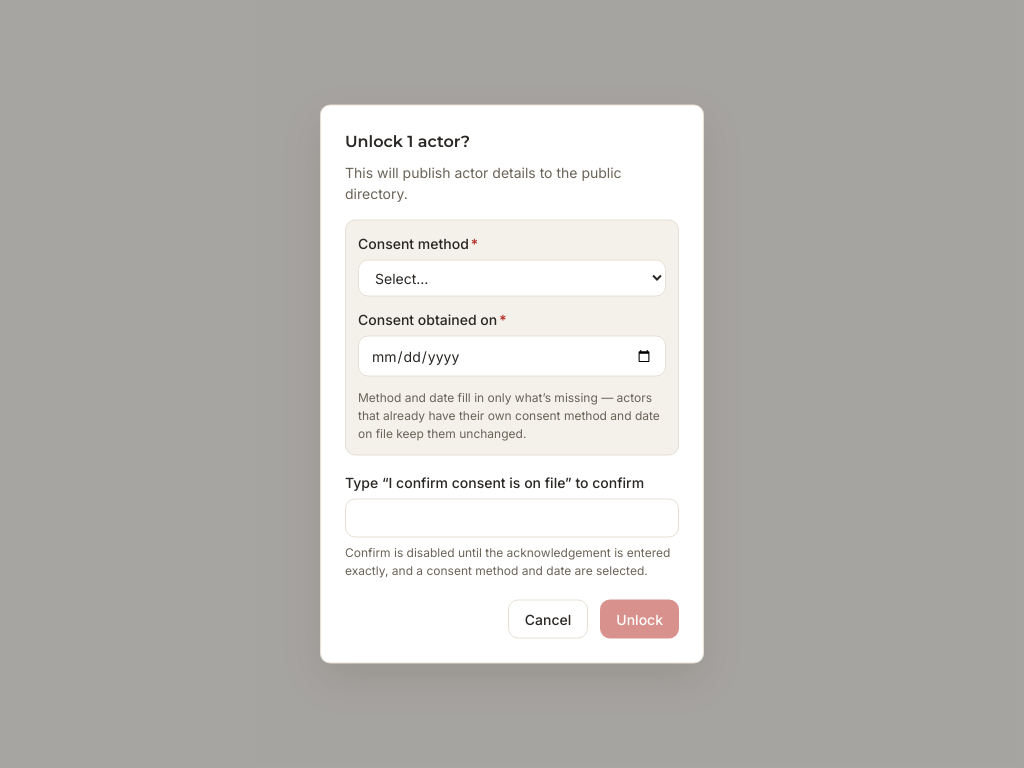
Scenario: AcknowledgeDialog — T-10 provenance prop supplied (bulk unlock) › enables confirm once the phrase, method, and date are all supplied
Step 1. Type "I confirm consent is on file" into the field labelled "Type “I confirm consent is on file” to confirm" → (512, 518), box [345,498,679,538]
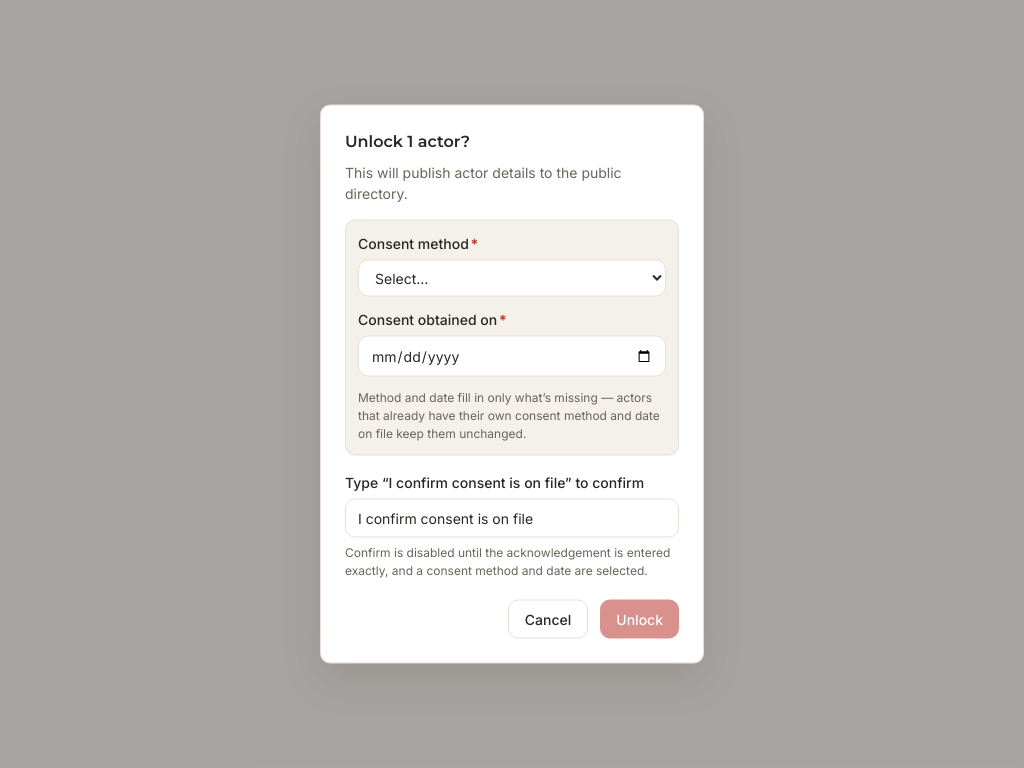
Step 2. Select "Signed form" in the dropdown labelled "Consent method*" → (512, 278), box [358,260,666,296]
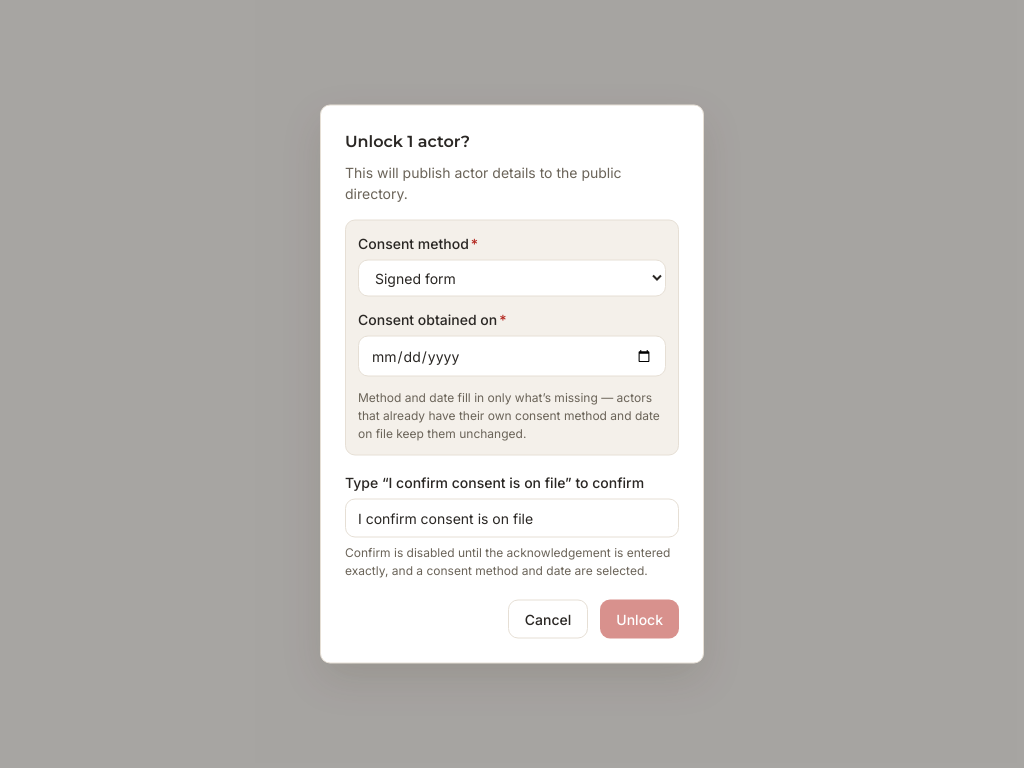
Step 3. Type "2026-01-15" into the date field labelled "Consent obtained on*" → (512, 356), box [358,336,666,376]
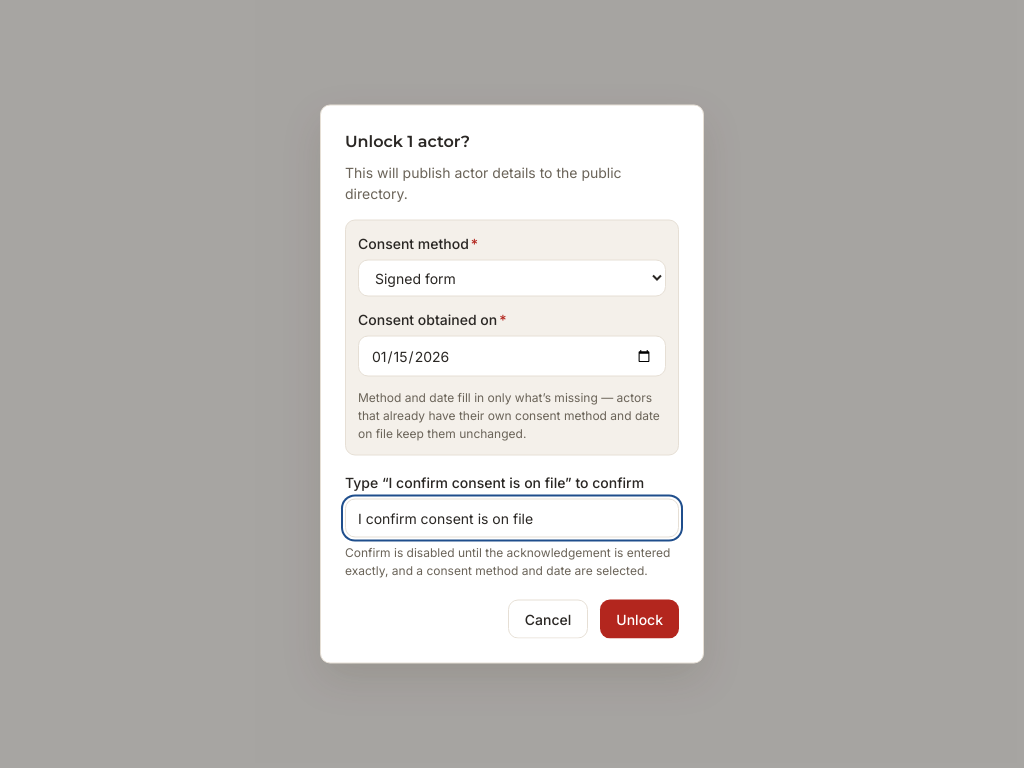
Expected: the button "Unlock" is enabled, [600,600,679,638]
